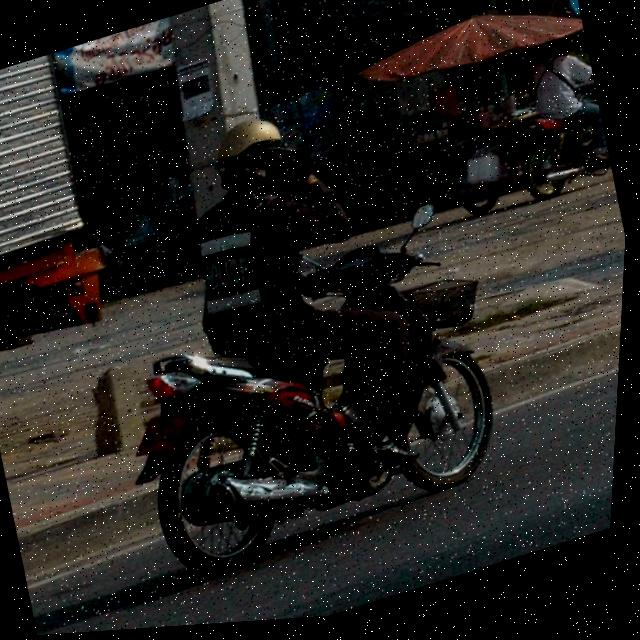motorcycle: (74, 178, 551, 624)
